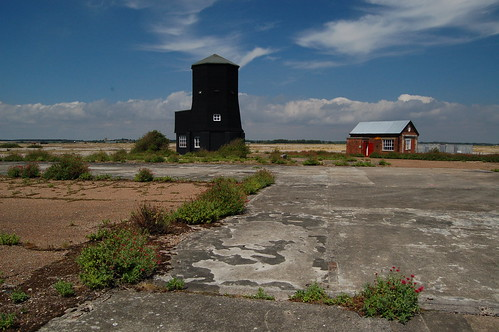building: (171, 56, 255, 164), (343, 117, 418, 159)
sky: (1, 1, 496, 136)
